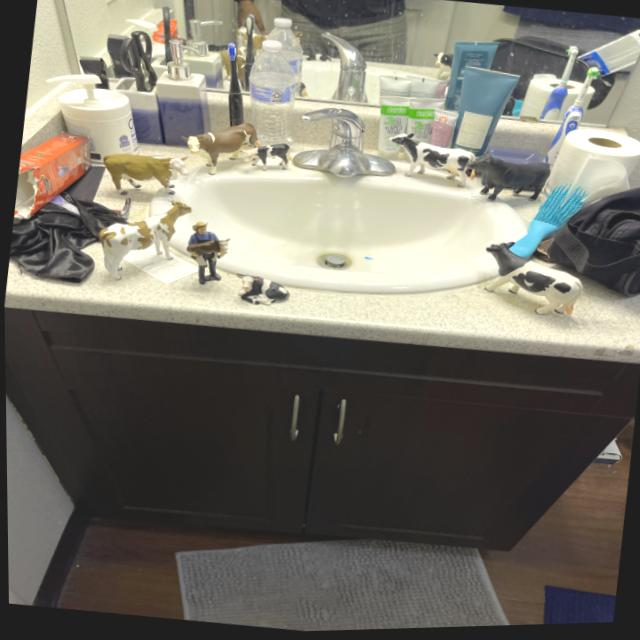cow: (468, 235, 587, 332), (90, 195, 205, 283), (379, 129, 475, 197), (460, 153, 550, 212), (184, 114, 264, 180), (102, 152, 187, 191), (231, 275, 290, 310), (242, 144, 290, 173), (185, 238, 227, 259)
person: (183, 219, 216, 247)
